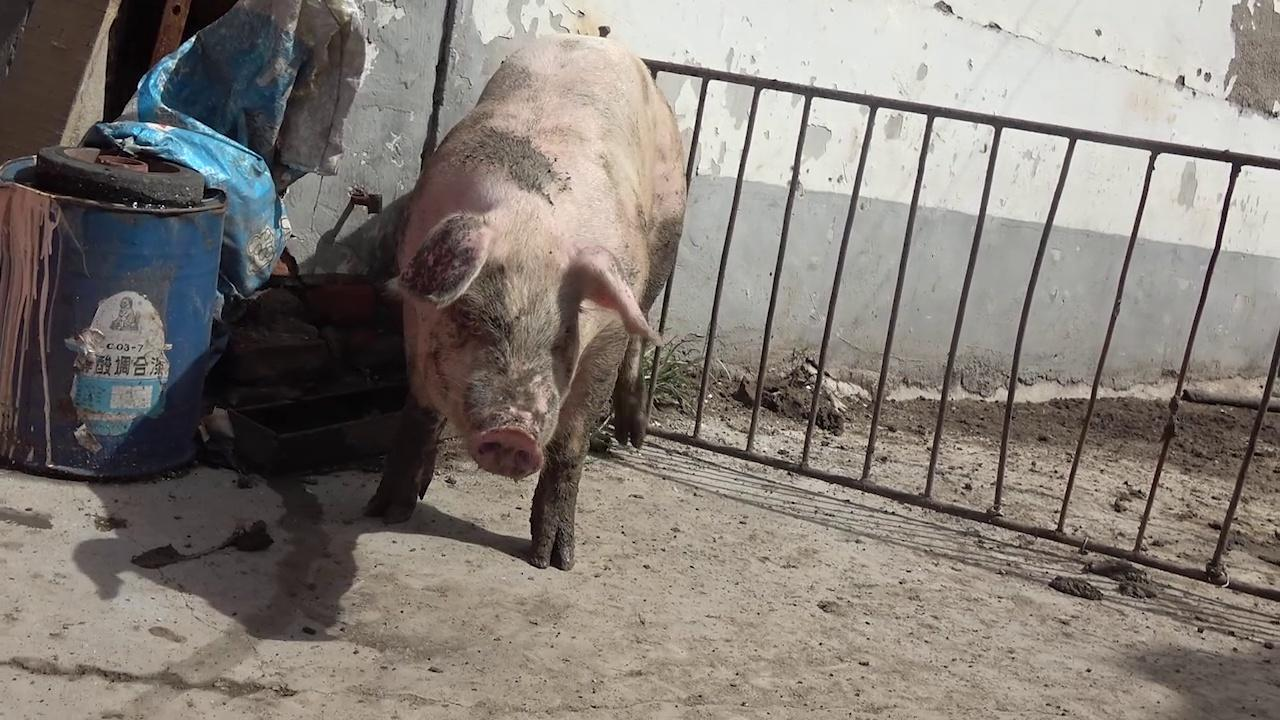Face: (396, 216, 665, 492)
